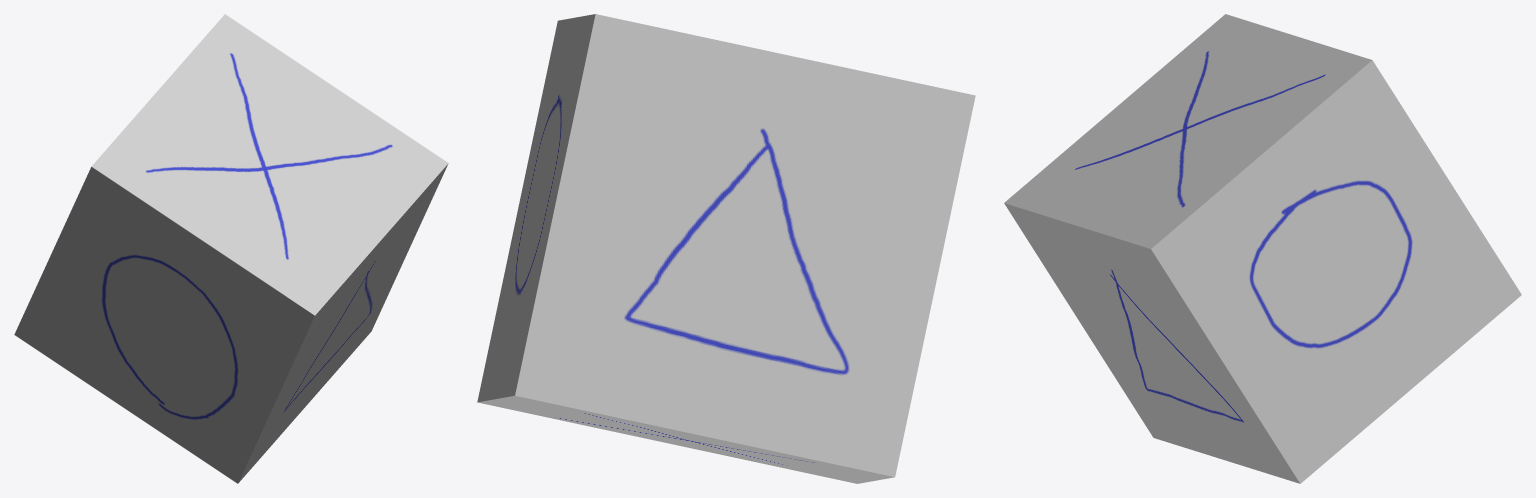
3 views of the same model, side by side, from view 1: azimuth 30°, elevation 25°; view 2: azimuth 150°, elevation 25°; view 3: azimuth 270°, elevation 25° (orthographic). The views are drawn at different scales.
Parts seen in each view (by area): view 1: node_id4; view 2: node_id4; view 3: node_id4.
Part boxes in pixels (<box>): node_id4: <box>14,14,448,483</box>; node_id4: <box>477,14,975,483</box>; node_id4: <box>1004,14,1521,483</box>.
Bounding box in the file's own units: 0.728 × 0.7857 × 0.8695.
Materials: 1 (1 with a texture image).
